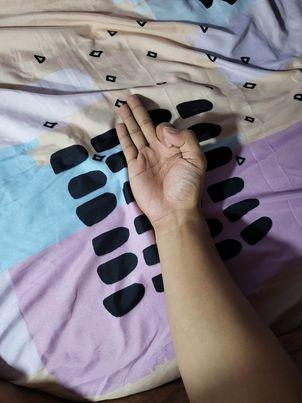f: (116, 94, 208, 217)
